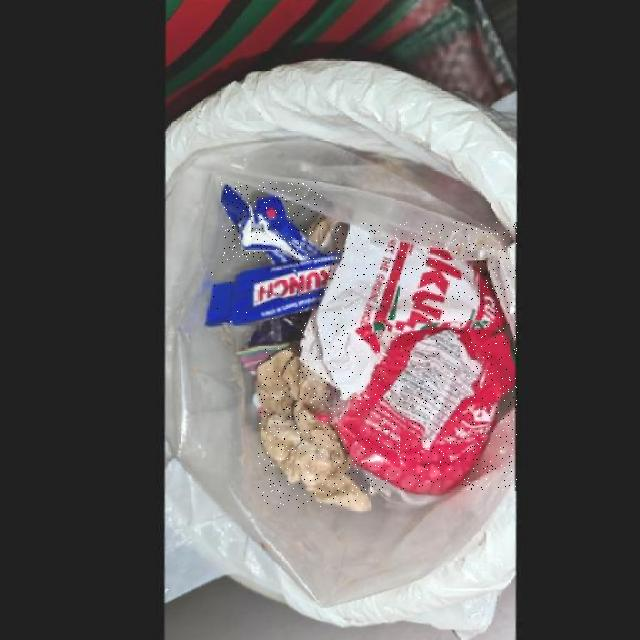paper: (258, 347, 375, 508)
wrapper: (300, 222, 518, 491), (206, 253, 337, 324), (222, 183, 324, 261)
